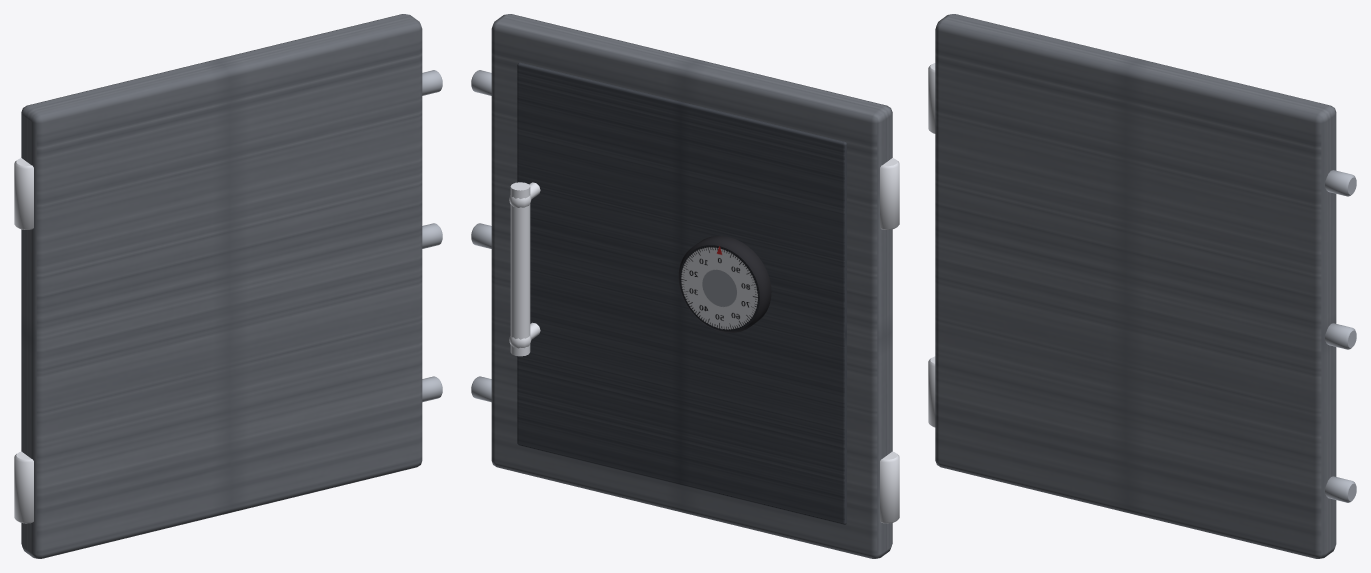
Rendered from WallSafeDoor.obj.
3 renders of one model, left to right at view 1: azimuth 30°, elevation 25°; view 2: azimuth 150°, elevation 25°; view 3: azimuth 330°, elevation 25°, orthographic.
Size of the model in its own units: 0.693 by 0.7 by 0.1122.
6 materials, 3 textured.
